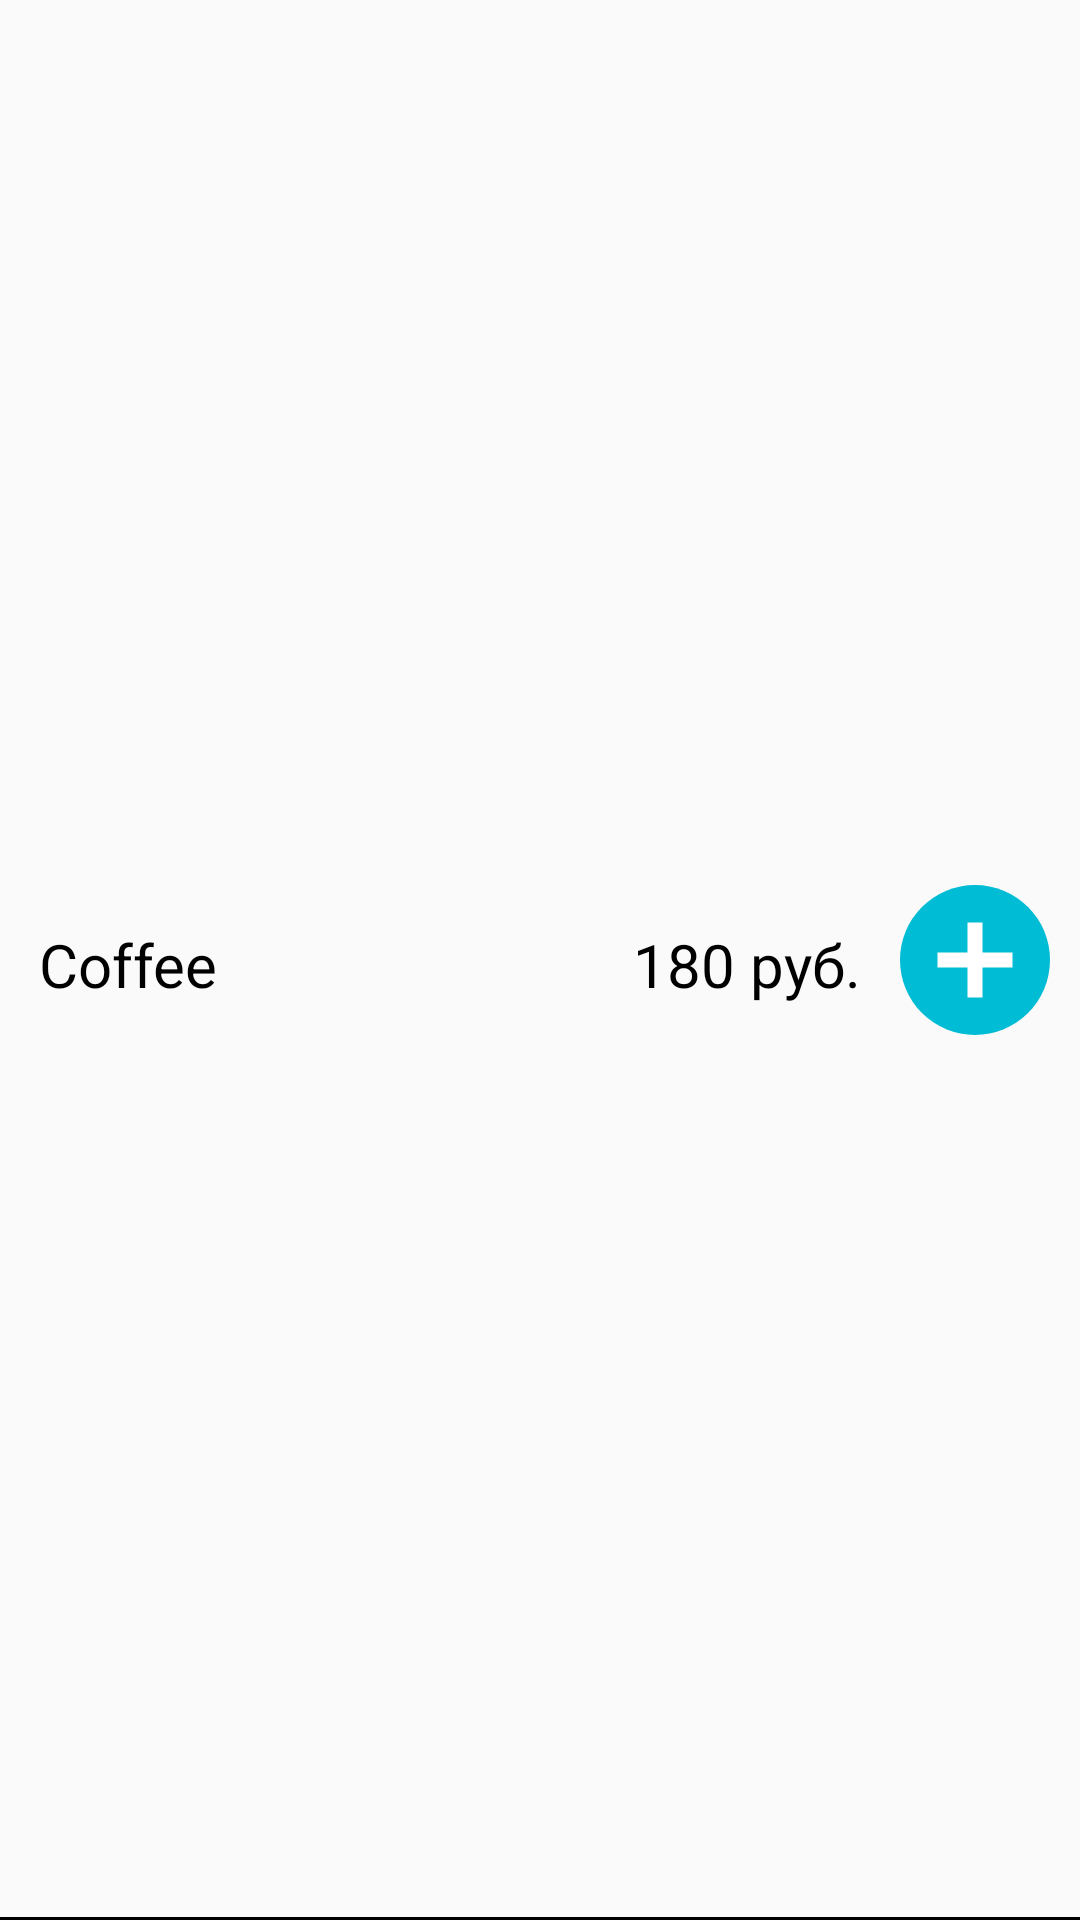

Icon click points for this 1080px×1920px phone screenshot, format (x=x, y=y):
add: (x=975, y=960)
